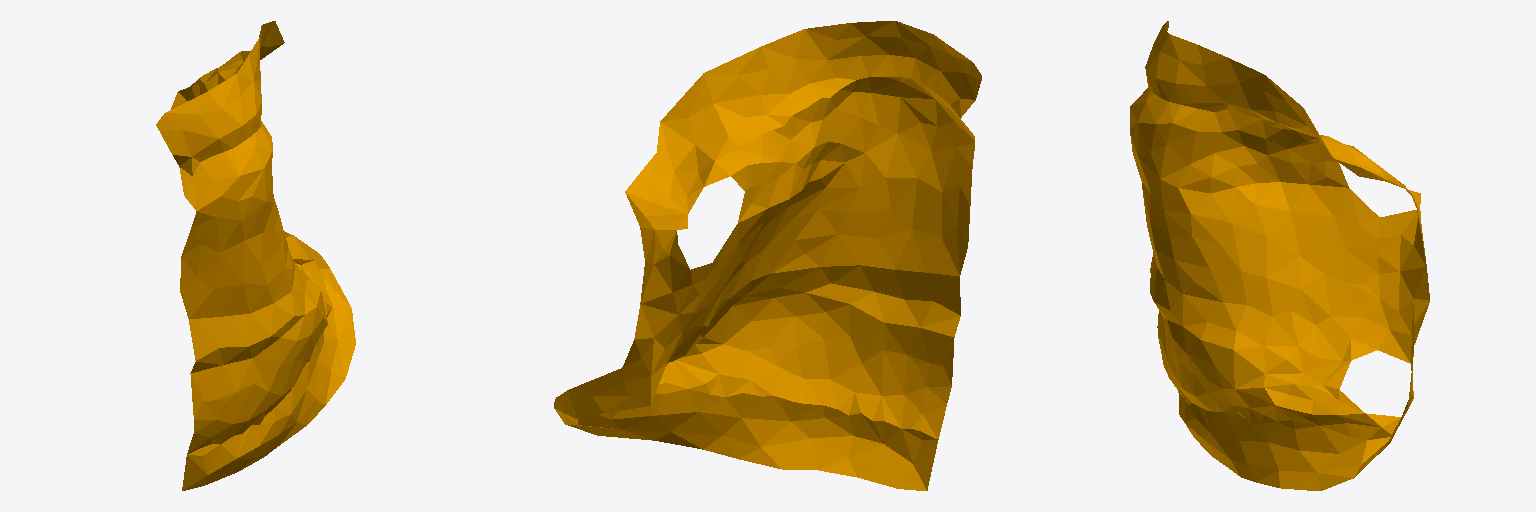
robot.urdf — init:
<?xml version='1.0' encoding='utf-8'?>
<robot name="init">
<link name="link_0"><inertial><mass value="1.0" /><origin rpy="0 0 0" xyz="0.000000 0.000000 0.000000" /><inertia ixx="1.0" ixy="0.0" ixz="0.0" iyy="1.0" iyz="0.0" izz="1.0" /></inertial><visual><origin rpy="0 0 0" xyz="0.000000 0.000000 0.000000" /><geometry><mesh filename="./clothHuman/cloth/2097.obj" /></geometry></visual><collision><origin rpy="0 0 0" xyz="0.000000 0.000000 0.000000" /><geometry><mesh filename="./clothHuman/cloth/2097.obj" /></geometry></collision></link></robot>

--- Render facts (derived) ---
3 views of the same robot in one strip: view 1: azimuth 30°, elevation 25°; view 2: azimuth 150°, elevation 25°; view 3: azimuth 270°, elevation 25° (orthographic).
Robot: init — 1 links, 0 joints (none); root link link_0; default pose: all joints at 0.
Links seen in each view (by area): view 1: link_0; view 2: link_0; view 3: link_0.
Boxes of the visible links, x1,y1,x2,y2 form: link_0: [156, 21, 355, 490]; link_0: [554, 21, 981, 490]; link_0: [1130, 21, 1429, 490].
Size in the robot's own frame: 3.02 by 2.78 by 4.17 metres.
1 mesh visuals loaded from 1 distinct referenced files (1 OBJ).